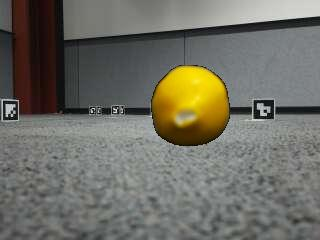lemon: (153, 65, 230, 146)
